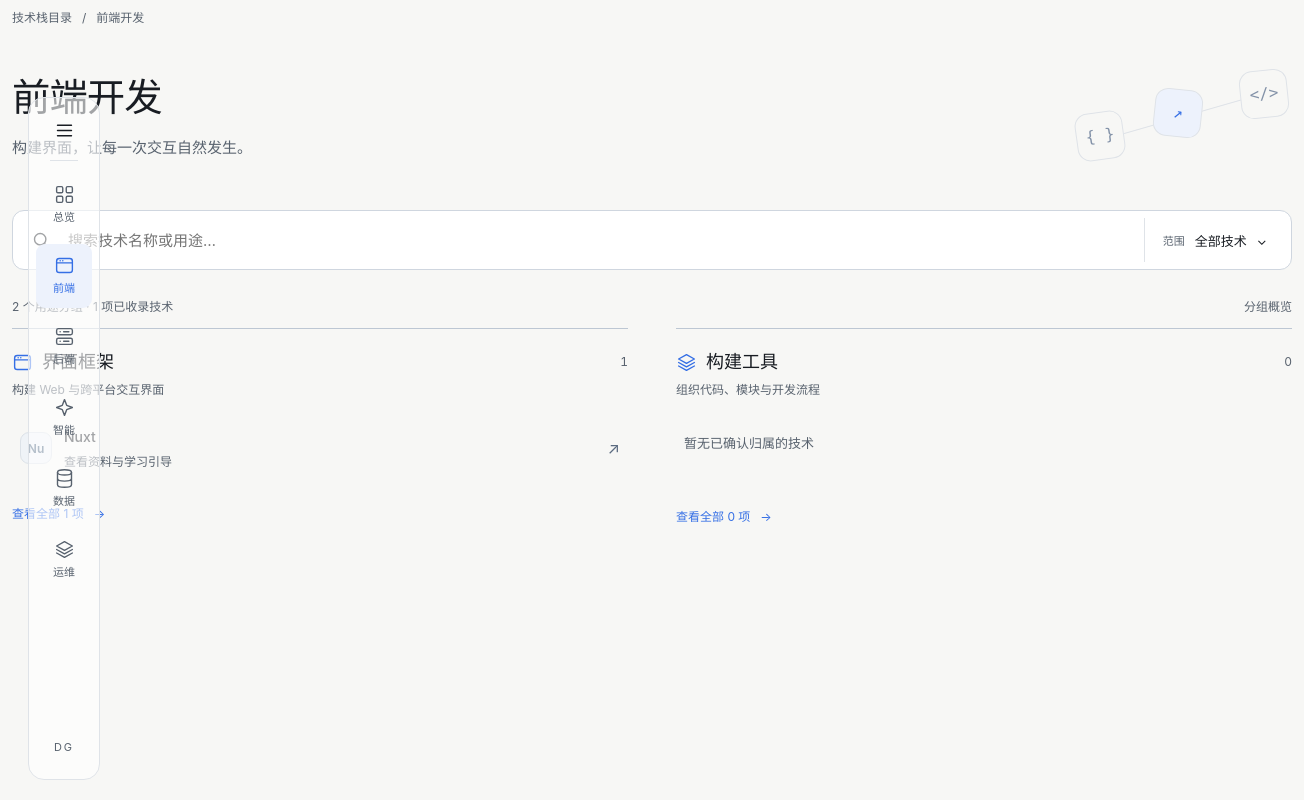
Scenario: LLM旧分类不让未知技术进入分组，但全目录搜索仍可找到
Expected: the element with class "tech-name" does not show "NewThing"
Type "NewThing" into the search field with placeholder "搜索技术名称或用途…" at (598, 240), box [66,218,1130,262]
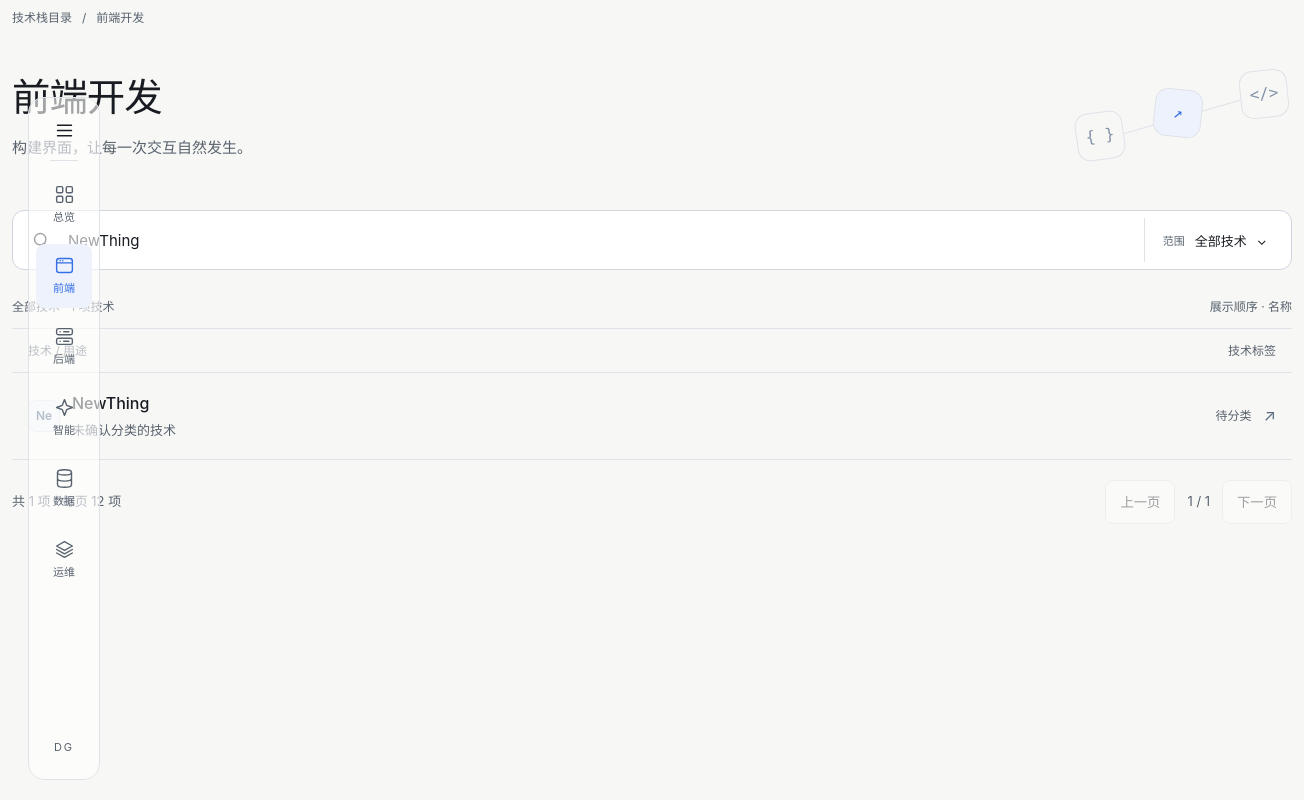
Now the text with class "tech-name" reads "NewThing", box [72,393,149,413]
Now the text with class "membership" reads "待分类", box [1216,408,1252,424]
